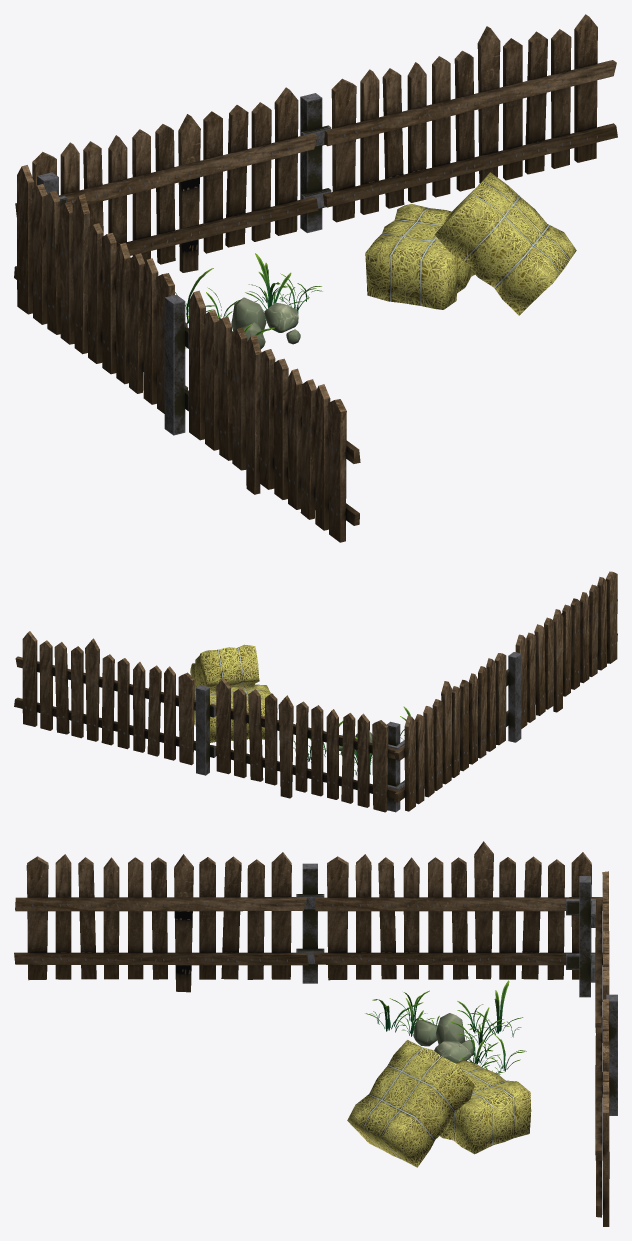
The model's file is Assets1_scene_low.fbx.
3 views of the same model, one above another, from view 1: azimuth 30°, elevation 25°; view 2: azimuth 150°, elevation 25°; view 3: azimuth 270°, elevation 25° (orthographic). The views are drawn at different scales.
Parts seen in each view (by area): view 1: Planks_low.002, Planks_low, Planks_low.003, Planks_low.001, Straw_low.001, Straw_low, Pilar_low.002, Pilar_low, Gras_low.010, Stone2_low, Stone1_low; view 2: Planks_low, Planks_low.002, Planks_low.001, Planks_low.003, Straw_low.001, Pilar_low, Pilar_low.002, Straw_low, Pilar_low.001; view 3: Planks_low.003, Planks_low.001, Straw_low.001, Straw_low, Planks_low.002, Pilar_low.001, Pilar_low.002, Planks_low, Pilar_low, Gras_low.001, Gras_low.002, Gras_low.010 (+3 smaller).
Boxes of the visible parts, box(x1,y1,x2,y2) form: Planks_low.002: box(323, 14, 617, 222); Planks_low: box(32, 87, 318, 272); Planks_low.003: box(189, 290, 360, 542); Planks_low.001: box(14, 165, 187, 413); Straw_low.001: box(434, 172, 576, 315); Straw_low: box(365, 204, 474, 309); Pilar_low.002: box(164, 294, 188, 435); Pilar_low: box(300, 93, 331, 232); Gras_low.010: box(245, 253, 322, 313); Stone2_low: box(231, 297, 266, 333); Stone1_low: box(264, 302, 298, 332); Planks_low: box(210, 678, 398, 812); Planks_low.002: box(14, 631, 195, 765); Planks_low.001: box(394, 653, 506, 811); Planks_low.003: box(506, 571, 617, 728); Straw_low.001: box(190, 644, 259, 690); Pilar_low: box(196, 685, 215, 775); Pilar_low.002: box(506, 652, 521, 742); Straw_low: box(194, 684, 277, 742); Pilar_low.001: box(386, 721, 404, 812); Planks_low.003: box(14, 852, 308, 992); Planks_low.001: box(314, 841, 602, 980); Straw_low.001: box(347, 1040, 474, 1167); Straw_low: box(440, 1060, 531, 1154); Planks_low.002: box(595, 999, 609, 1226); Pilar_low.001: box(566, 876, 595, 997); Pilar_low.002: box(296, 863, 324, 983); Planks_low: box(595, 871, 609, 1032); Pilar_low: box(601, 994, 617, 1115); Gras_low.001: box(457, 980, 523, 1045); Gras_low.002: box(365, 990, 439, 1036); Gras_low.010: box(447, 1019, 526, 1074).
Bounding box in the file's own units: 874 × 232 × 855.
